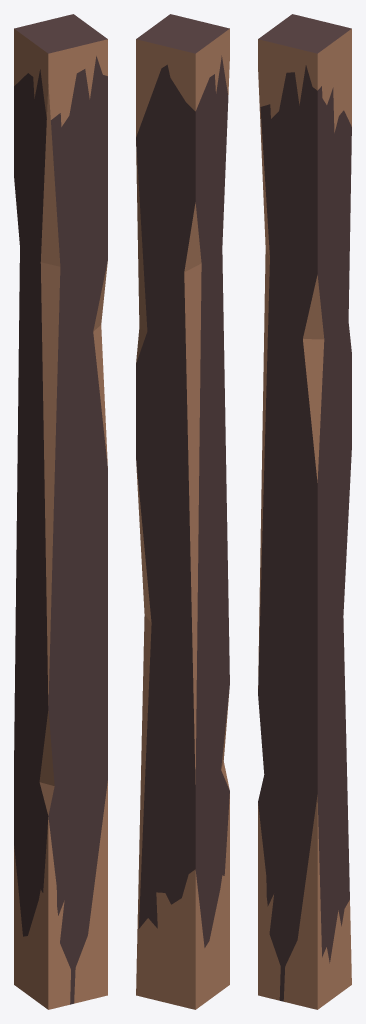
File: builder_60.FBX
The picture shows the model from 3 angles, left to right: view 1: azimuth 30°, elevation 25°; view 2: azimuth 150°, elevation 25°; view 3: azimuth 330°, elevation 25°; orthographic projection.
Parts seen in each view (by area): view 1: builder_60; view 2: builder_60; view 3: builder_60.
Part boxes in pixels (x1,y1,x2,y2): builder_60: (14,14,107,1009); builder_60: (136,14,229,1009); builder_60: (258,14,351,1009).
Size of the model in its own units: 5.05 by 77.51 by 5.05.
